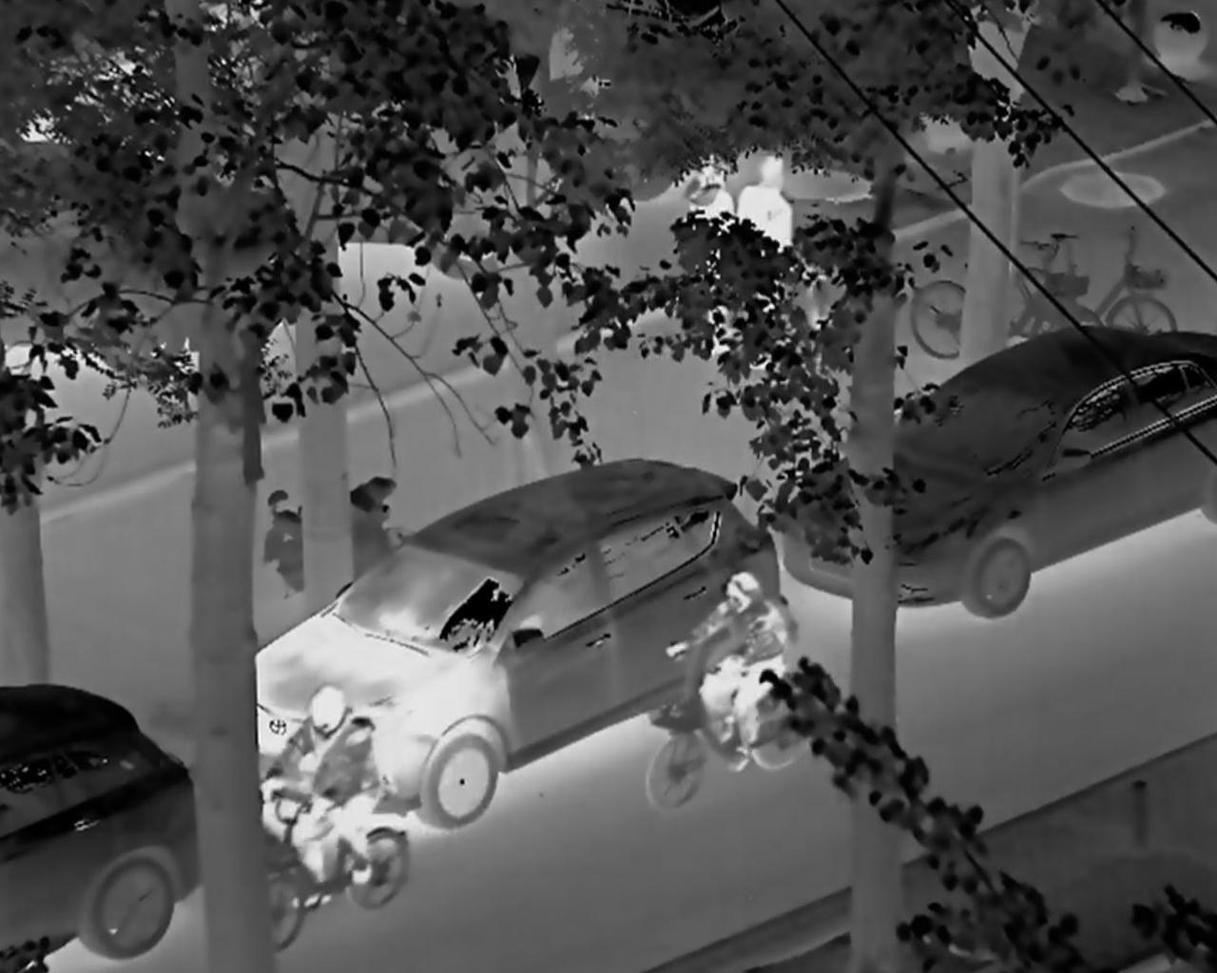person: (661, 561, 803, 778), (262, 670, 386, 905), (733, 149, 809, 375)
